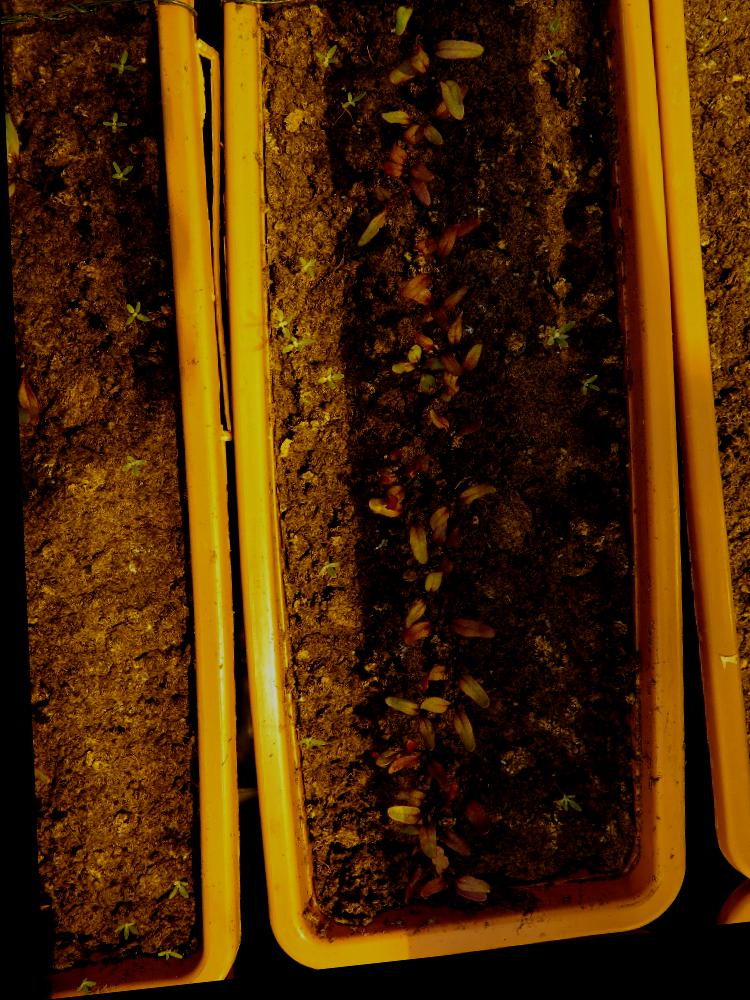weed: (537, 330, 573, 364), (311, 368, 342, 399), (107, 49, 135, 80), (545, 801, 575, 829), (119, 299, 146, 330), (114, 452, 142, 480), (311, 48, 339, 76), (287, 735, 319, 759), (337, 92, 366, 117), (310, 560, 335, 589), (107, 155, 131, 185), (99, 110, 126, 136), (102, 919, 129, 945), (157, 876, 180, 906), (537, 53, 563, 79), (573, 382, 597, 410), (293, 259, 313, 288), (146, 946, 173, 966)
